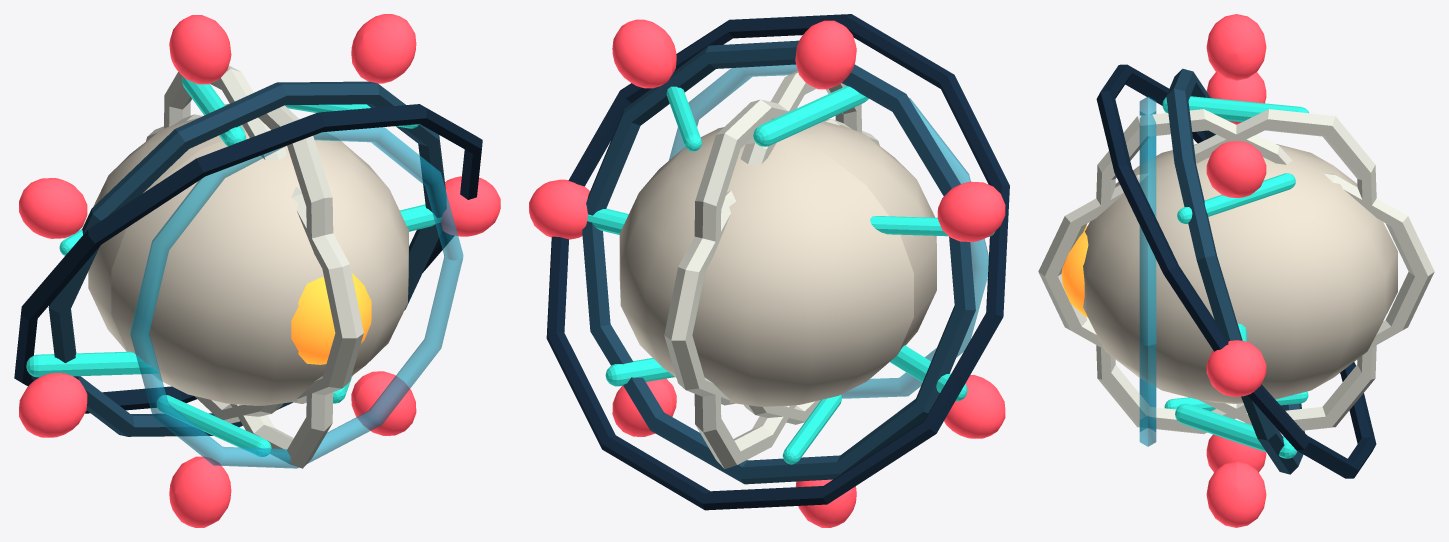
Rendered from bio-heart-low.glb.
3 views of the same model, side by side, from view 1: azimuth 30°, elevation 25°; view 2: azimuth 150°, elevation 25°; view 3: azimuth 270°, elevation 25° (orthographic). The views are drawn at different scales.
Parts seen in each view (by area): view 1: motion-heart, shield, accent_static, porcelain_static, dark_static, trim_static, telegraph_socket_1, telegraph_socket_4, telegraph_socket_5, exposed_core, telegraph_socket_2, telegraph_socket_3 (+2 smaller); view 2: motion-heart, dark_static, accent_static, porcelain_static, trim_static, shield, telegraph_socket_1, telegraph_socket_2, telegraph_socket_3, telegraph_socket_0, telegraph_socket_4, telegraph_socket_6 (+1 smaller); view 3: motion-heart, porcelain_static, dark_static, accent_static, trim_static, shield, telegraph_socket_2, telegraph_socket_6, telegraph_socket_1, telegraph_socket_0, telegraph_socket_3, exposed_core (+1 smaller).
Part boxes in pixels (x1,y1,x2,y2): motion-heart: (88,117,408,405); shield: (130,127,463,468); accent_static: (48,81,446,436); porcelain_static: (146,65,363,468); dark_static: (14,104,482,413); trim_static: (26,76,441,456); telegraph_socket_1: (351,14,416,83); telegraph_socket_4: (19,373,87,437); telegraph_socket_5: (169,456,231,527); exposed_core: (291,273,371,364); telegraph_socket_2: (169,15,231,84); telegraph_socket_3: (19,178,87,238); motion-heart: (619,121,936,406); dark_static: (546,14,1009,510); accent_static: (582,40,975,484); porcelain_static: (664,70,879,468); trim_static: (587,86,995,464); shield: (669,64,988,398); telegraph_socket_1: (612,19,676,88); telegraph_socket_2: (795,20,856,89); telegraph_socket_3: (937,181,1005,241); telegraph_socket_0: (529,179,589,239); telegraph_socket_4: (944,375,1005,438); telegraph_socket_6: (612,378,676,436); motion-heart: (1083,144,1397,403); porcelain_static: (1038,109,1434,434); dark_static: (1096,64,1376,478); accent_static: (1166,68,1304,474); trim_static: (1162,96,1308,458); shield: (1139,96,1156,446); telegraph_socket_2: (1206,14,1266,80); telegraph_socket_6: (1206,461,1266,527); telegraph_socket_1: (1206,141,1266,197); telegraph_socket_0: (1206,340,1266,396); telegraph_socket_3: (1206,72,1266,124); exposed_core: (1061,225,1088,317).
Size of the model in its own units: 2392 by 2443 by 1884.
